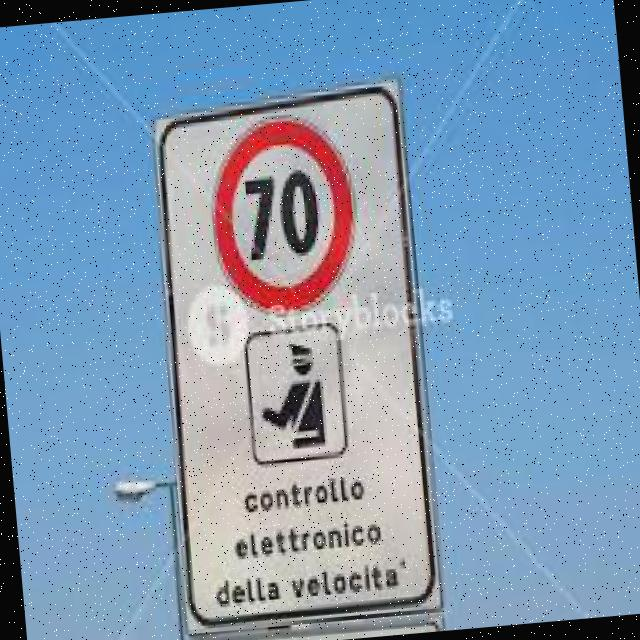Ograniczenie predkosci do 70: (202, 105, 376, 332)
